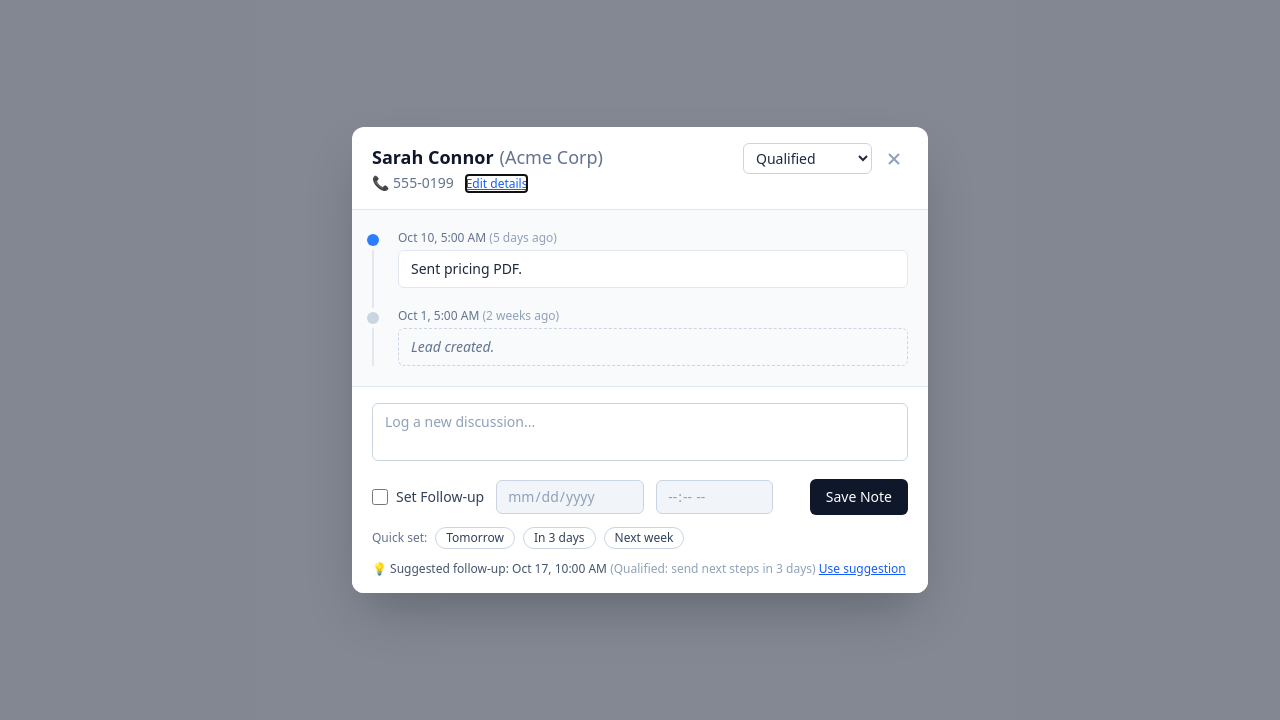
Scenario: saving a discussion › requires both date and time when a follow-up is requested
This screenshot has width=1280, height=720.
expect the text "Lead created." is shown: met, box x1=411 y1=337 x2=494 y2=356
Type "Call back" into the text box with placeholder "Log a new discussion...". click: (640, 432)
box: x1=372 y1=403 x2=908 y2=461
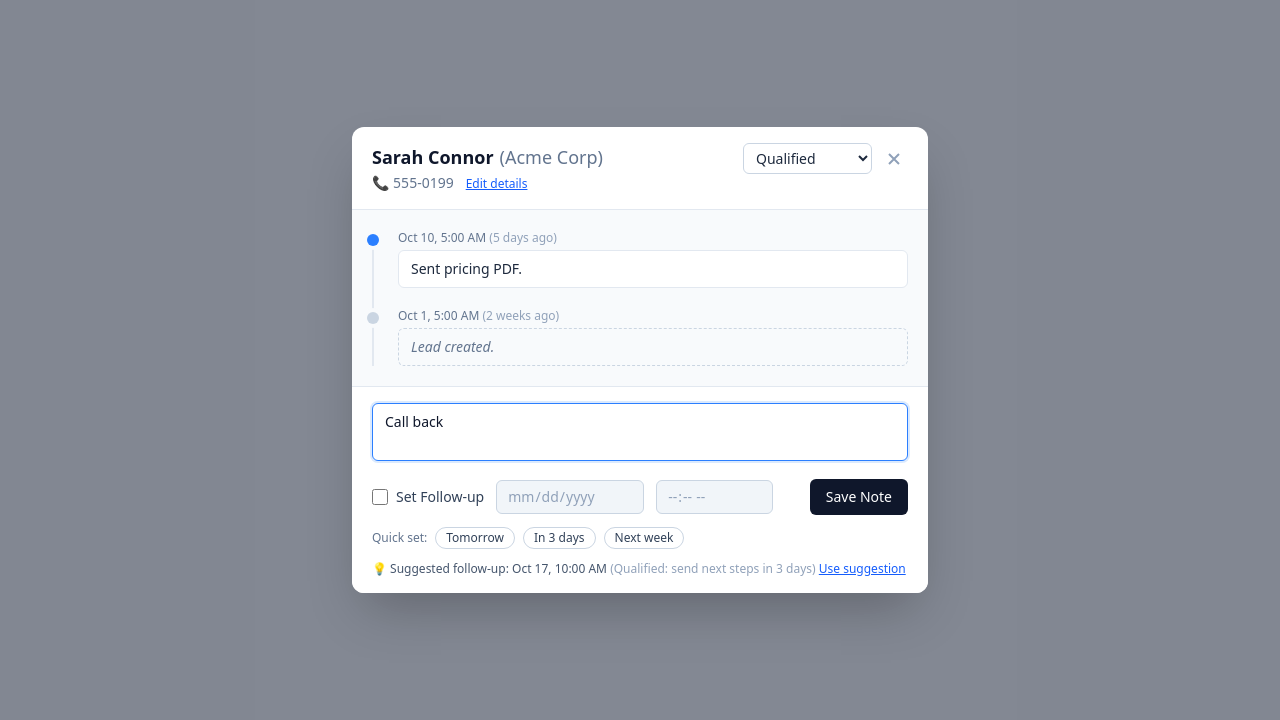
Click the checkbox labelled "Set Follow-up". click: (380, 497)
box: x1=372 y1=489 x2=388 y2=505
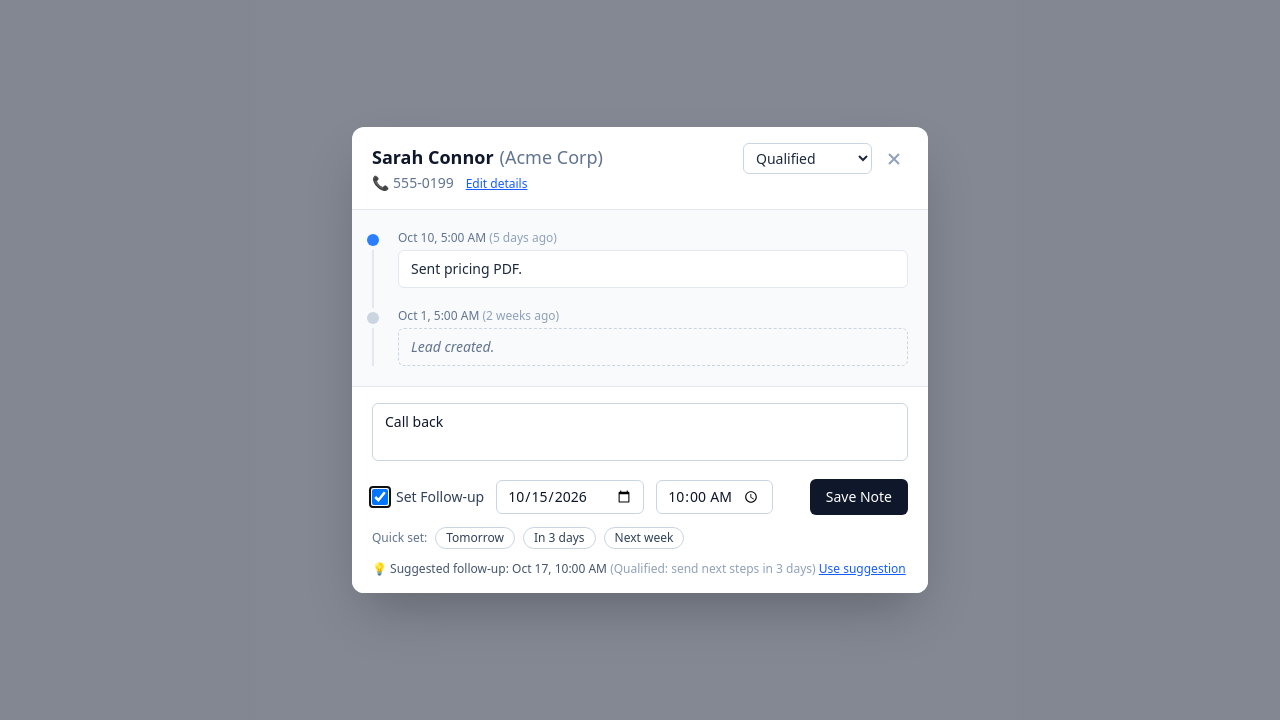
Clear the time field named "Follow-up time". click: (715, 497)
box: x1=656 y1=480 x2=773 y2=514
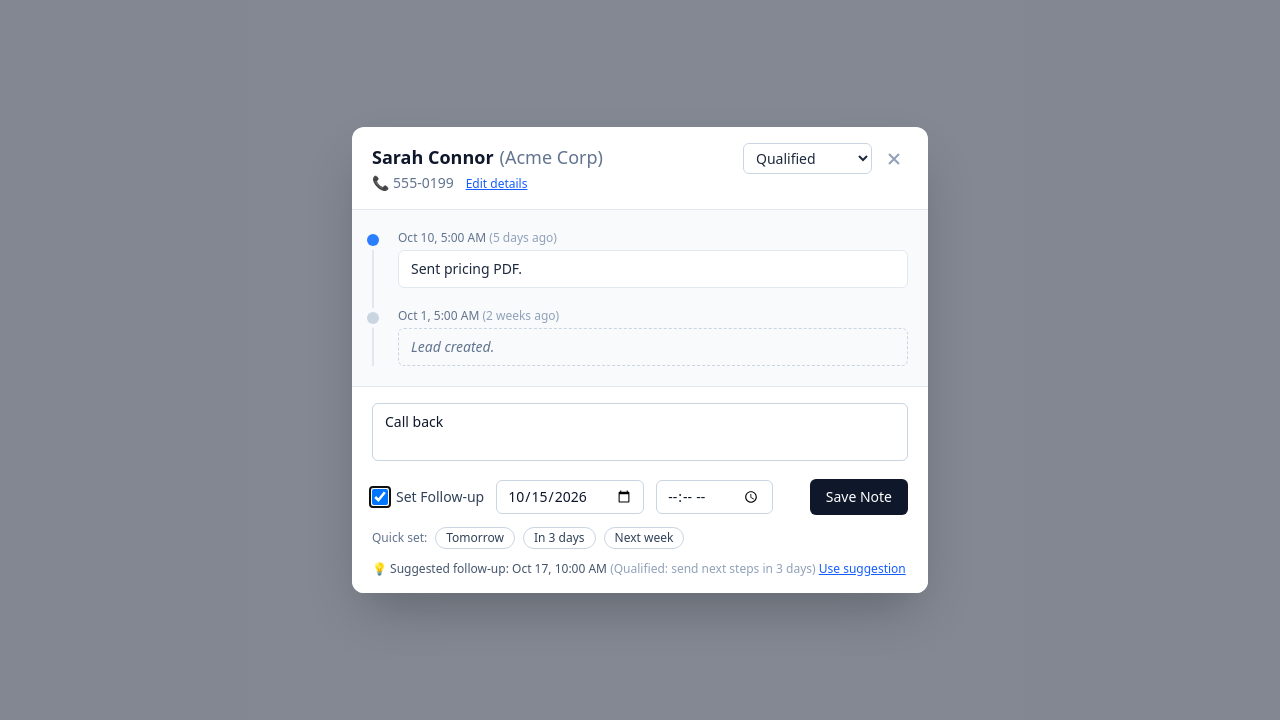
Click the button "Save Note". click: (859, 497)
box: x1=810 y1=479 x2=908 y2=515
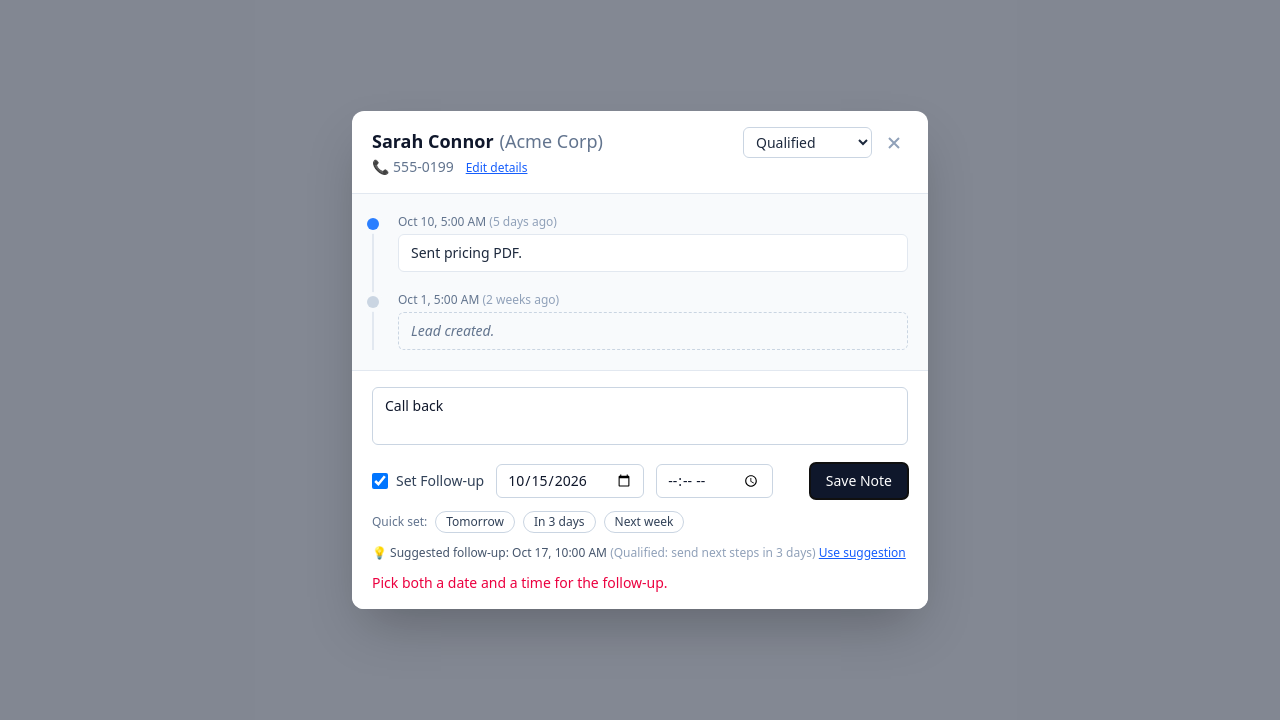
expect the text "Pick both a date and a time for the follow-up." is shown: met, box x1=372 y1=573 x2=668 y2=592
